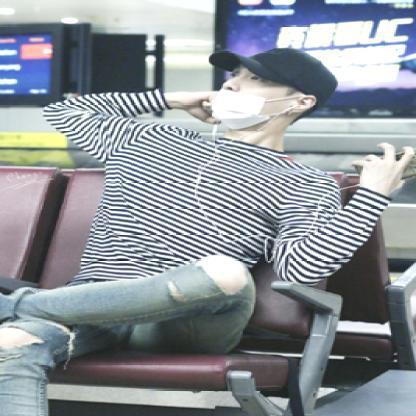mask_weared_incorrect: (210, 69, 290, 125)
